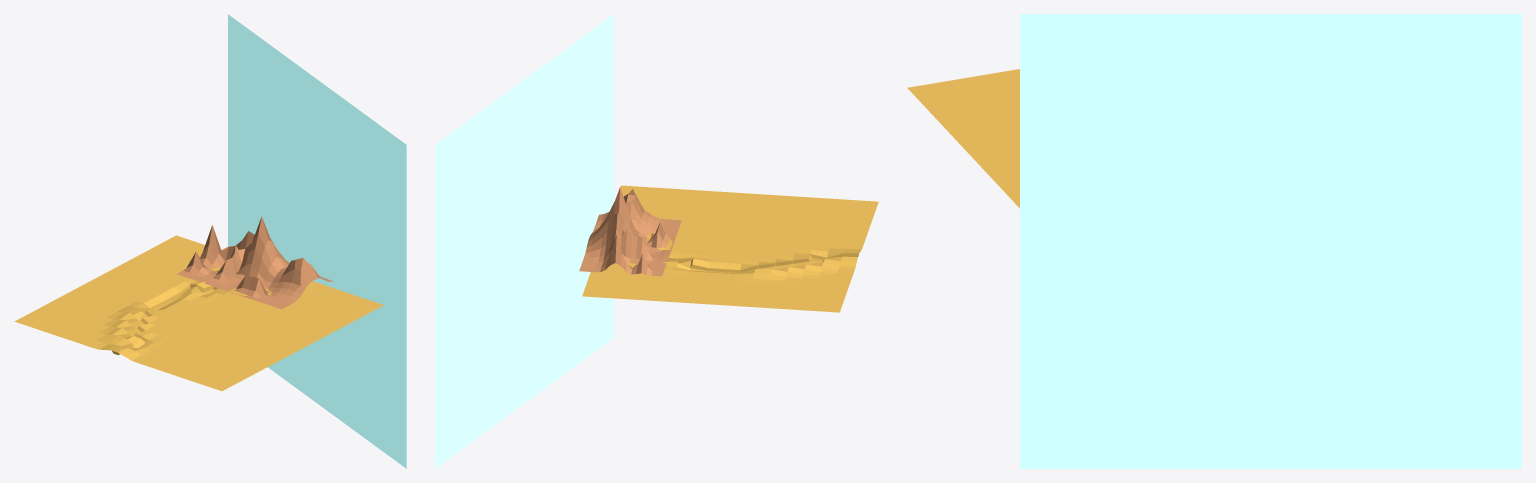
File: hanna-landslag-transformed.glb
3 renders of one model, left to right at view 1: azimuth 30°, elevation 25°; view 2: azimuth 150°, elevation 25°; view 3: azimuth 270°, elevation 25°, orthographic. The views are drawn at different scales.
Parts seen in each view (by area): view 1: Plane.002, Plane.001, Plane; view 2: Plane.002, Plane.001, Plane; view 3: Plane.002, Plane.001.
Boxes of the visible parts, x1=… form: Plane.002: x1=228, y1=14, x2=406, y2=468; Plane.001: x1=14, y1=235, x2=383, y2=391; Plane: x1=177, y1=216, x2=333, y2=309; Plane.002: x1=435, y1=14, x2=613, y2=468; Plane.001: x1=582, y1=185, x2=878, y2=312; Plane: x1=579, y1=187, x2=681, y2=276; Plane.002: x1=1020, y1=14, x2=1521, y2=468; Plane.001: x1=907, y1=69, x2=1019, y2=208.
Size of the model in its own units: 950 by 952 by 1166.
